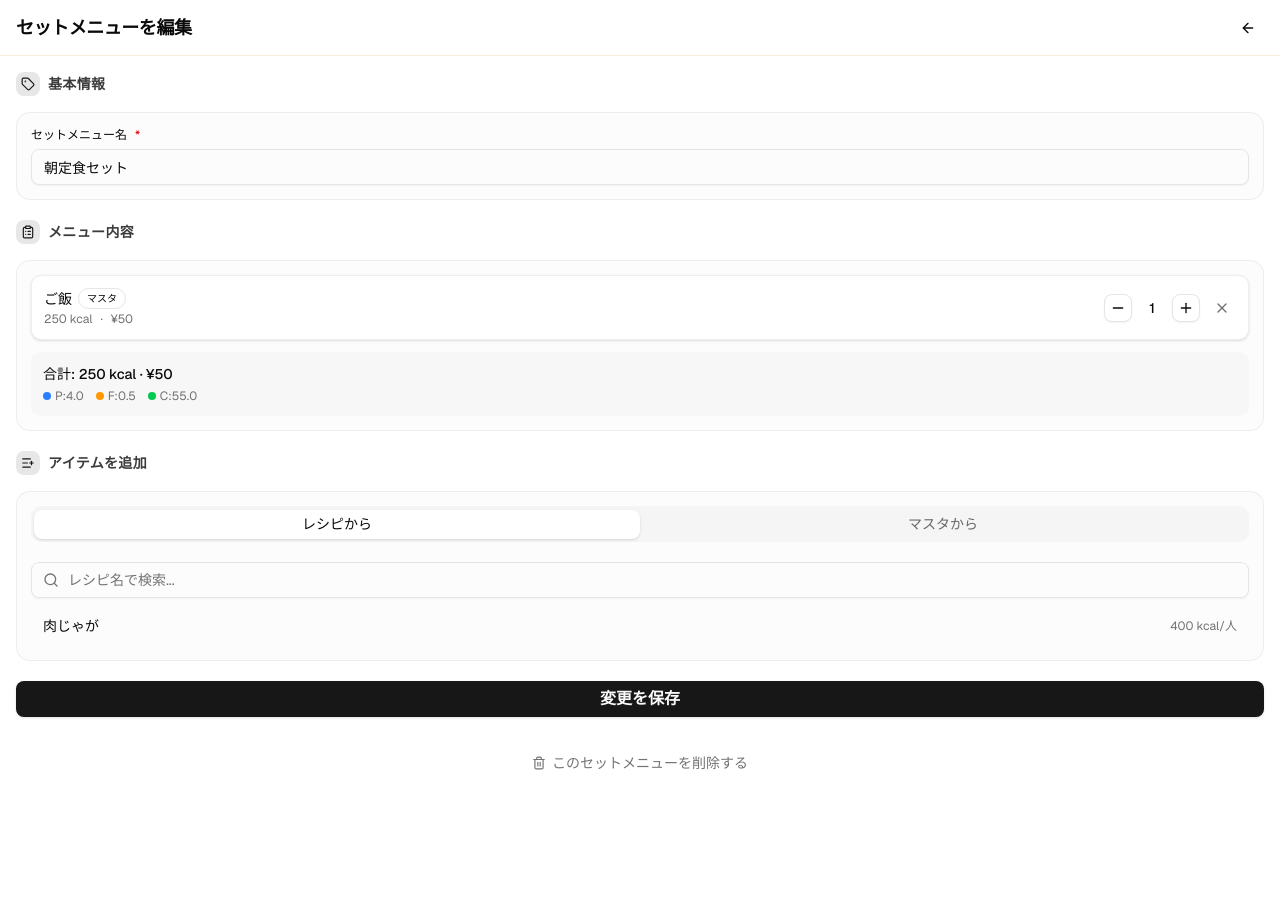
SetMenuFormView (S-06a セットメニュー登録/編集) › 戻るときの未保存の確認(G-8) › G-8: 分量を変えただけでも、戻るときに確認が出て、「編集を続ける」なら変えた分量が残る
What coordinates should you click on to do the following:
click the button named "「ご飯」を増やす"
I would click on:
 (1186, 308)
Its box is [1172,294,1200,322].
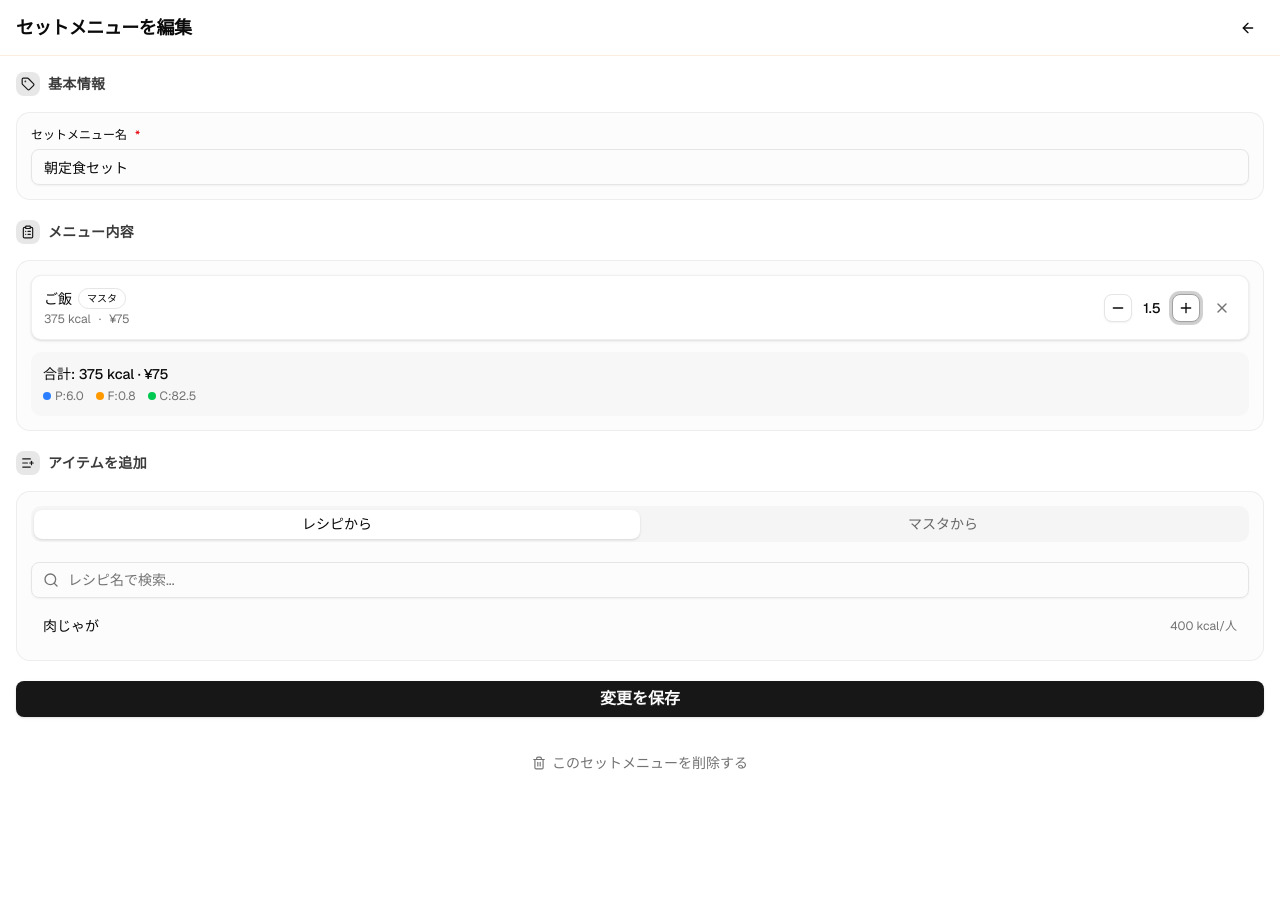
What coordinates should you click on to do the following:
click the button named "セットメニューの一覧に戻る"
I would click on:
 (1248, 28)
Its box is [1232,12,1264,44].
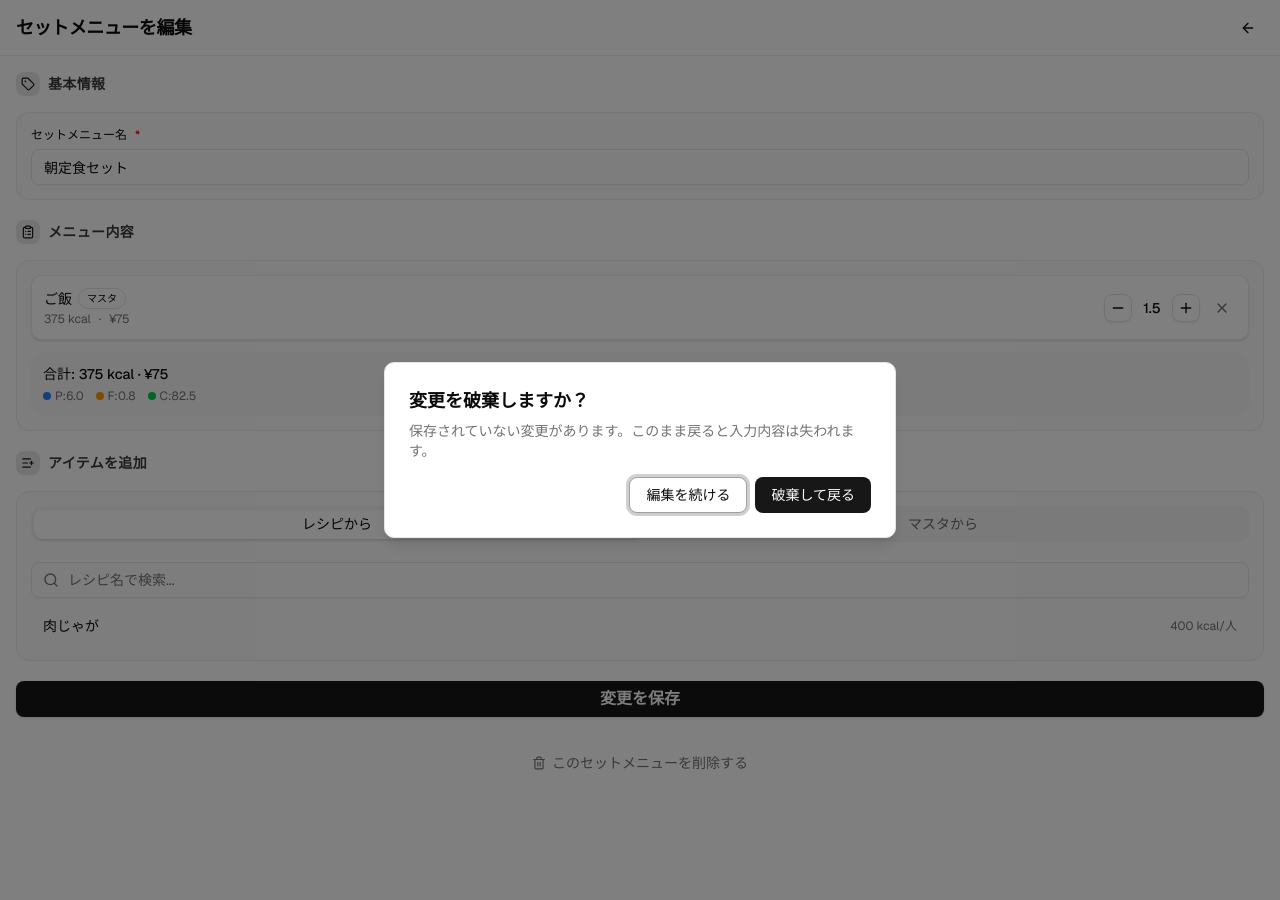
What coordinates should you click on to do the following:
click the button "編集を続ける"
I would click on:
 (688, 495)
Its box is [629,477,747,513].
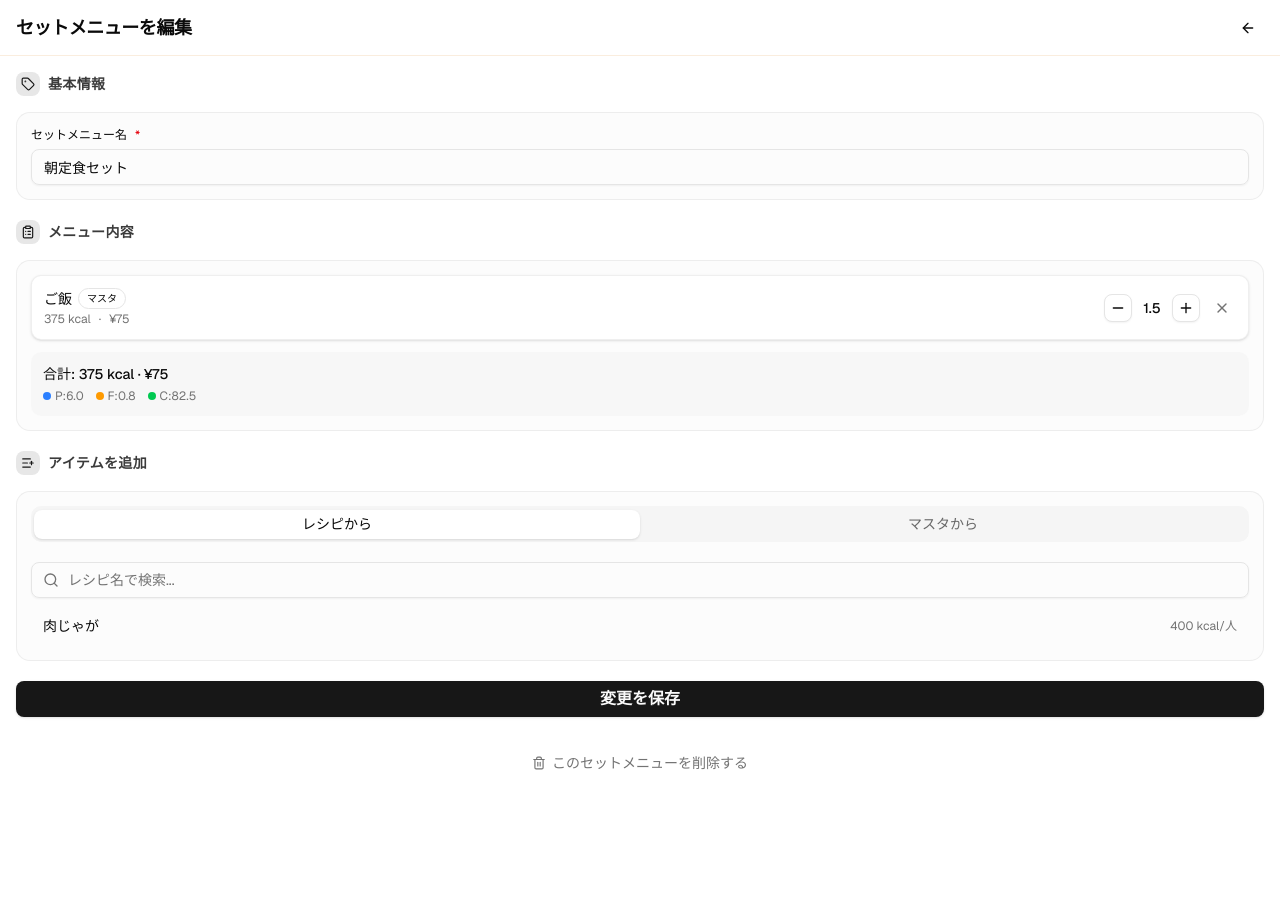
Now the text "合計: 375 kcal · ¥75" is shown, box [43,365,168,383]
Now the dialog is gone
